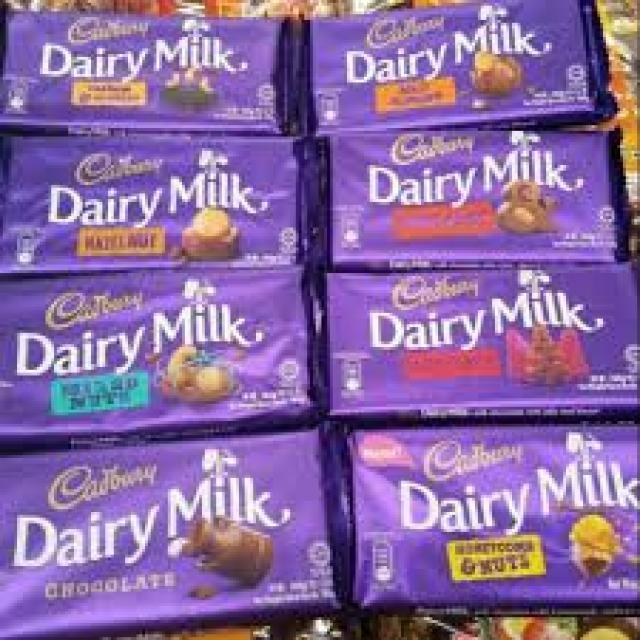cadbury_chocolate: (11, 428, 328, 640), (0, 123, 326, 278), (350, 422, 640, 593), (0, 281, 306, 436), (316, 258, 632, 408), (348, 133, 618, 257), (10, 12, 292, 128), (315, 8, 597, 107)
